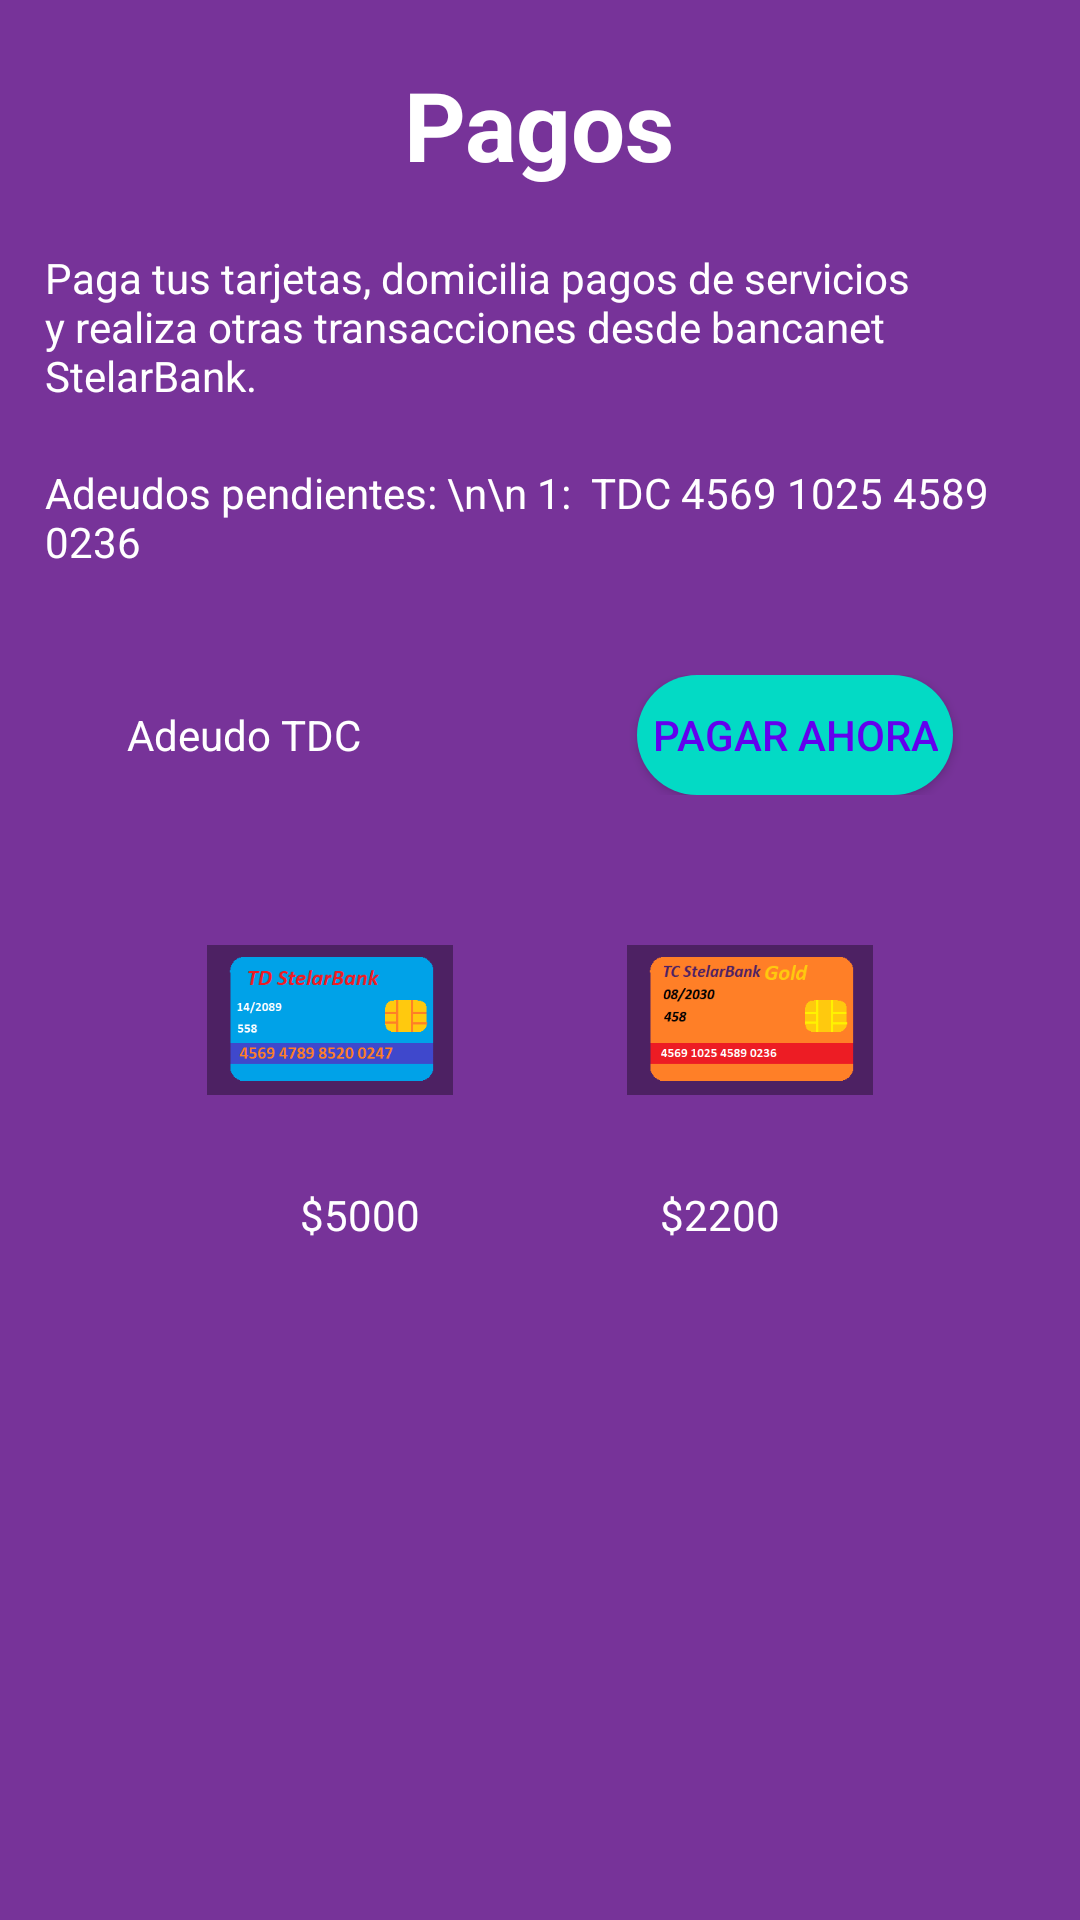

Screen size 1080w x 1920h. Icon name, then its center in pixels as point (x, y):
card: point (330, 1020), point (750, 1020)
